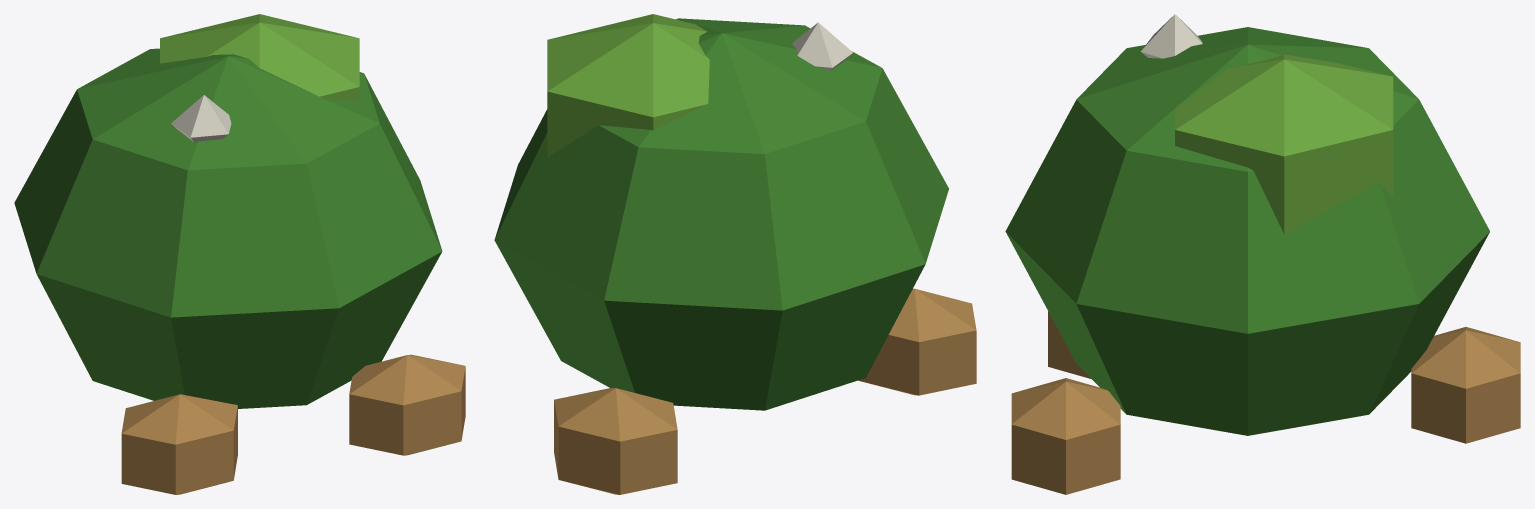
File: potato_2.glb
The picture shows the model from 3 angles, left to right: view 1: azimuth 30°, elevation 25°; view 2: azimuth 150°, elevation 25°; view 3: azimuth 270°, elevation 25°; orthographic projection. The views are drawn at different scales.
Visible parts, largest first — view 1: plant; view 2: plant; view 3: plant.
Boxes of the visible parts, bbox=[...] form: plant: bbox=[14, 14, 465, 494]; plant: bbox=[494, 14, 976, 494]; plant: bbox=[1005, 14, 1520, 494].
Bounding box in the file's own units: 0.4 × 0.37 × 0.425.
